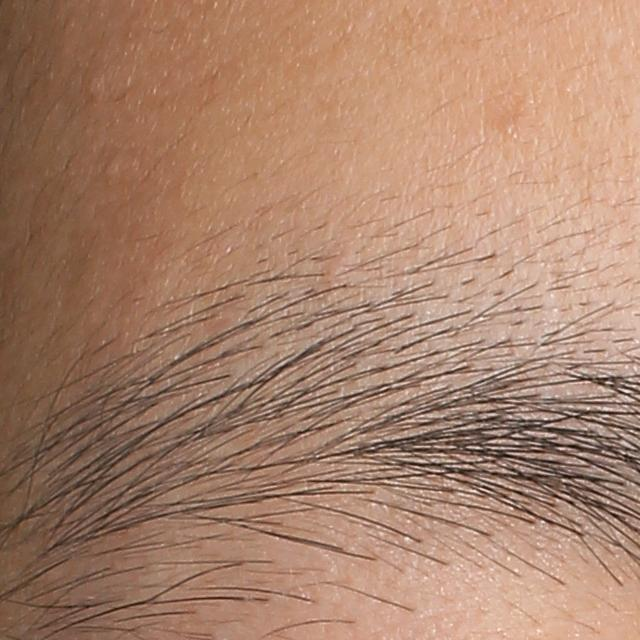comedo: (83, 73, 105, 98), (103, 158, 121, 174)
